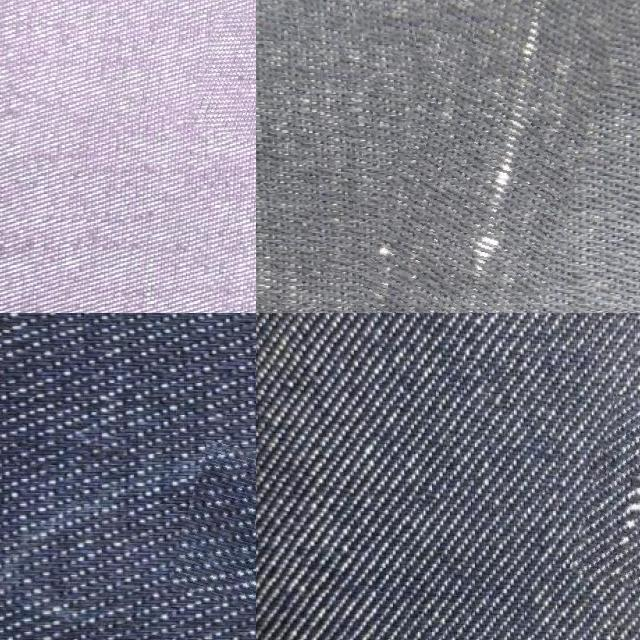Thread_other: (334, 0, 590, 313), (175, 450, 256, 624), (578, 397, 640, 588), (191, 17, 256, 158)
